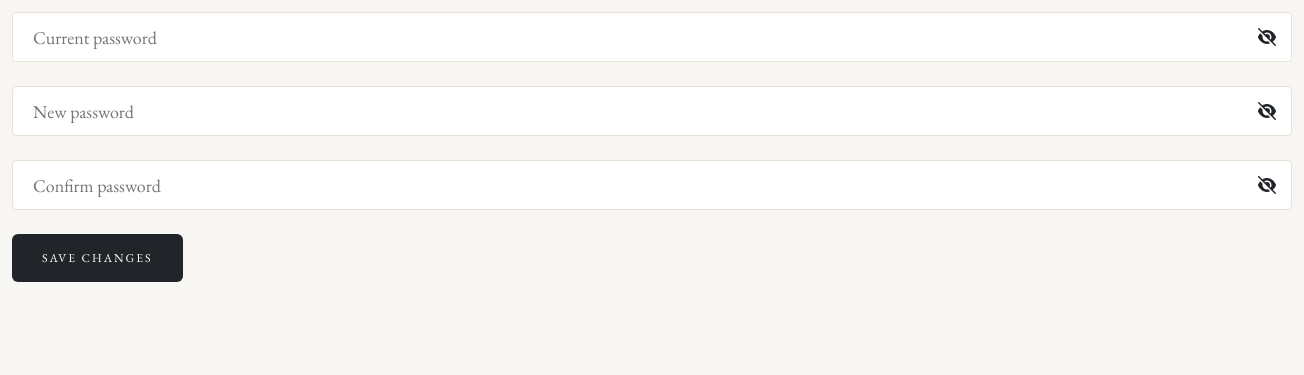
Test case: PasswordForm component › shows error message for passwords that do not match
Type "password1" into the password field labelled "New password" at (652, 111), box [12,86,1292,136]
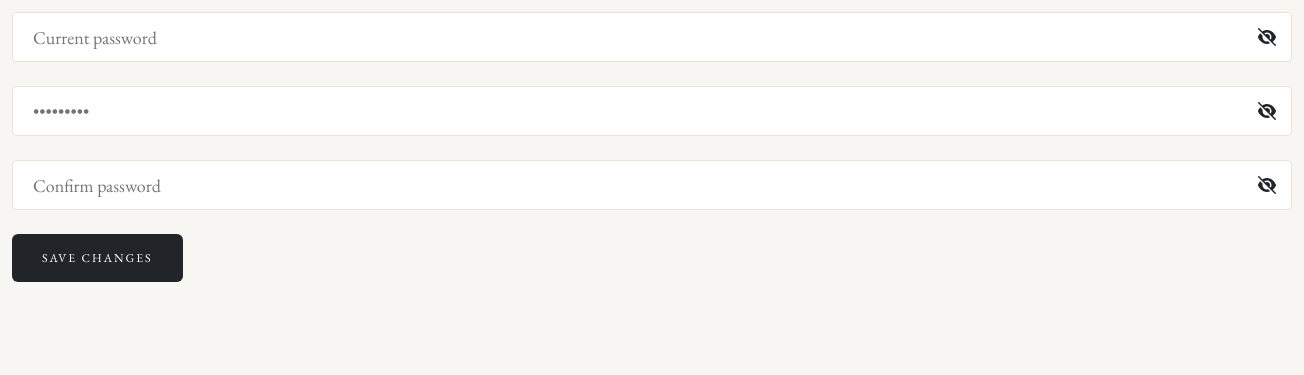
Type "password2" into the password field labelled "Confirm password" at (652, 185), box [12,160,1292,210]
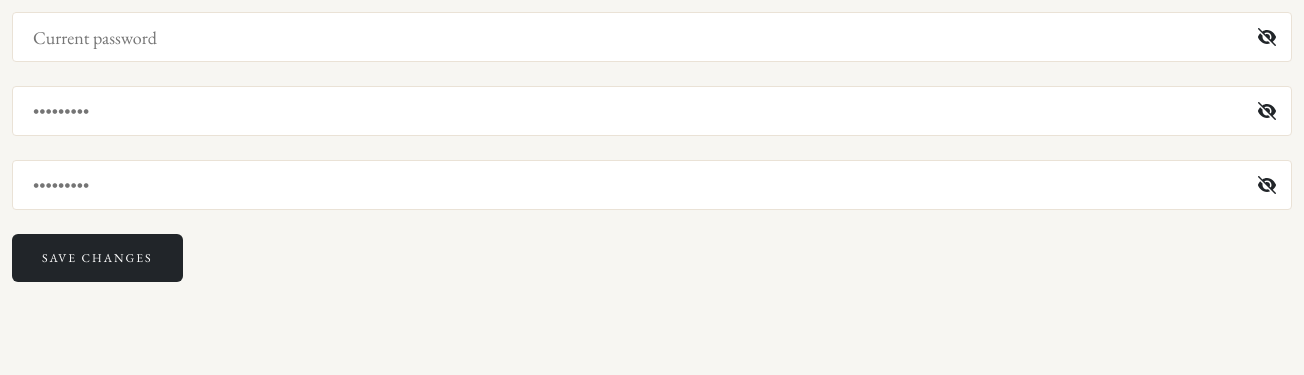
Click the button "Save changes" at (97, 258), box [12,234,183,282]
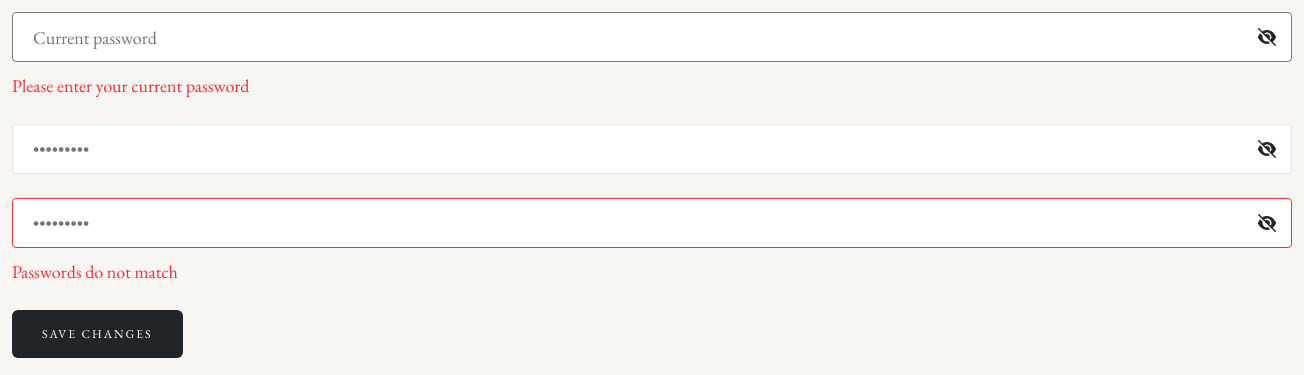
Result: the text "Passwords do not match" is shown at [12,260,178,283]
